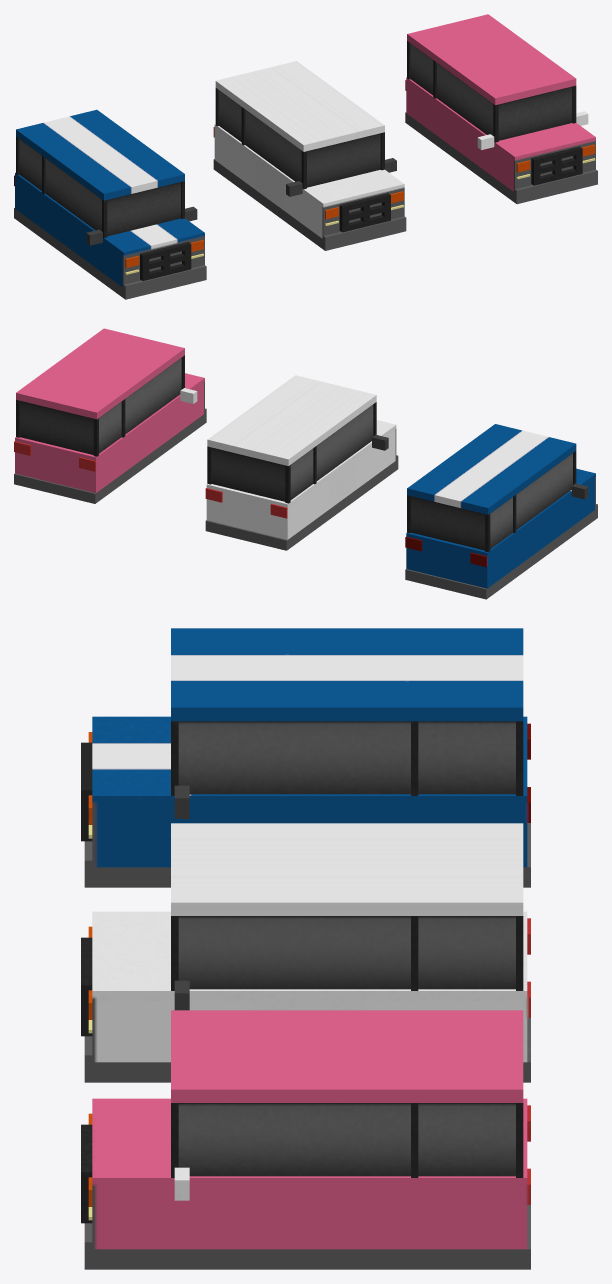
The model's file is Vehicles_07.fbx.
The picture shows the model from 3 angles, top to bottom: view 1: azimuth 30°, elevation 25°; view 2: azimuth 150°, elevation 25°; view 3: azimuth 270°, elevation 25°; orthographic projection. The views are drawn at different scales.
Visible parts, largest first — view 1: Car_05, Car_06, Car_04; view 2: Car_05, Car_04, Car_06; view 3: Car_06, Car_04, Car_05.
Boxes of the visible parts, x1=… form: Car_05: x1=213, y1=61, x2=406, y2=250; Car_06: x1=405, y1=14, x2=597, y2=204; Car_04: x1=14, y1=109, x2=206, y2=299; Car_05: x1=205, y1=375, x2=398, y2=550; Car_04: x1=405, y1=424, x2=597, y2=599; Car_06: x1=14, y1=328, x2=206, y2=503; Car_06: x1=81, y1=1010, x2=530, y2=1269; Car_04: x1=81, y1=628, x2=530, y2=887; Car_05: x1=81, y1=823, x2=530, y2=1082.
Size of the model in its own units: 307 by 53 by 120.
